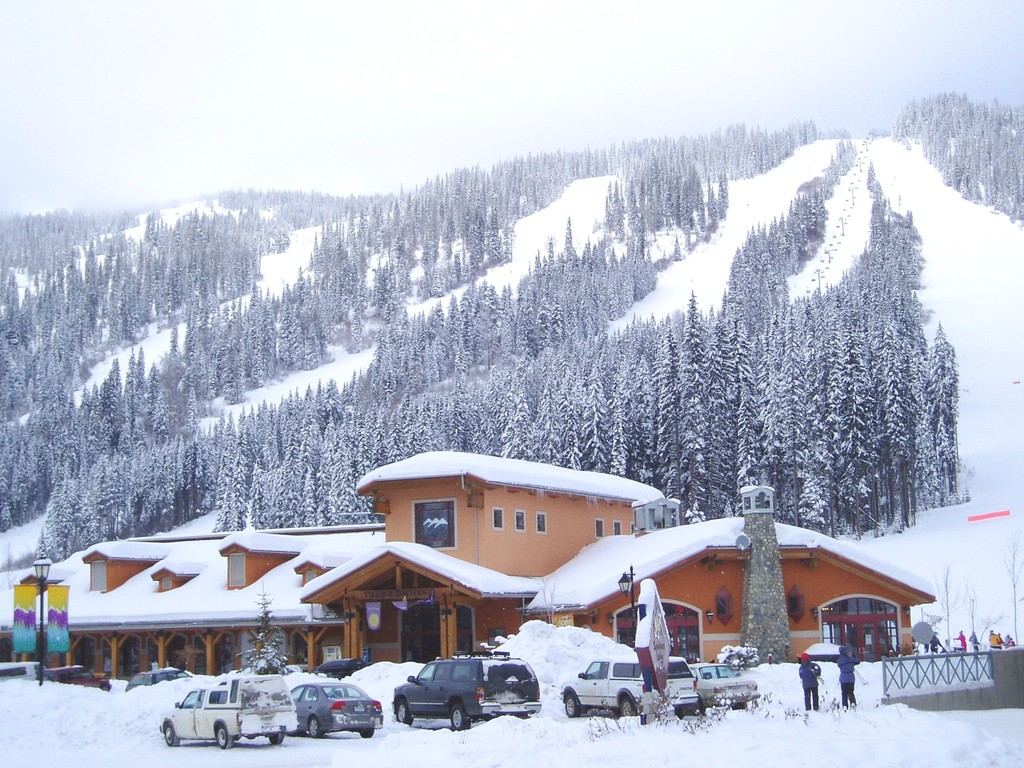Car: (284, 677, 380, 738), (685, 664, 763, 714), (36, 663, 110, 692), (122, 666, 189, 689), (309, 657, 371, 676)
